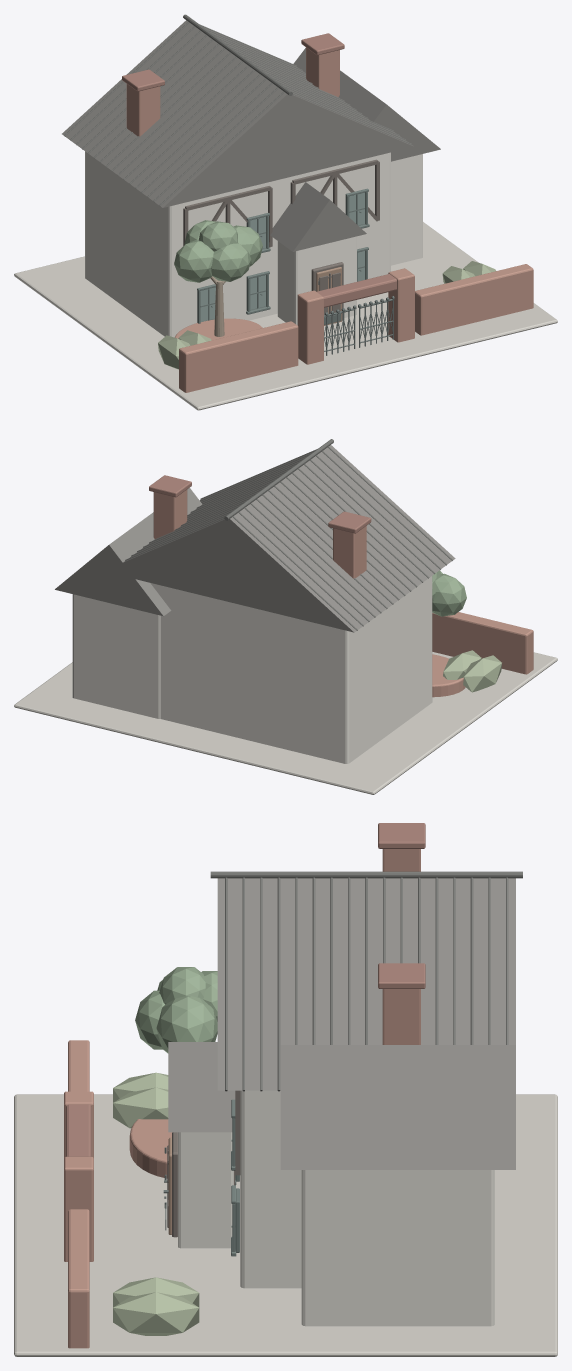
The model's file is hudec-memorial.glb.
3 renders of one model, top to bottom at view 1: azimuth 30°, elevation 25°; view 2: azimuth 150°, elevation 25°; view 3: azimuth 270°, elevation 25°, orthographic. The views are drawn at different scales.
Visible parts, largest first — view 1: hudec-memorial; view 2: hudec-memorial; view 3: hudec-memorial.
Boxes of the visible parts, x1=… form: hudec-memorial: x1=14, y1=14, x2=557, y2=410; hudec-memorial: x1=14, y1=439, x2=557, y2=794; hudec-memorial: x1=14, y1=823, x2=557, y2=1356.
Bounding box in the file's own units: 17.5 × 10.76 × 15.5.
